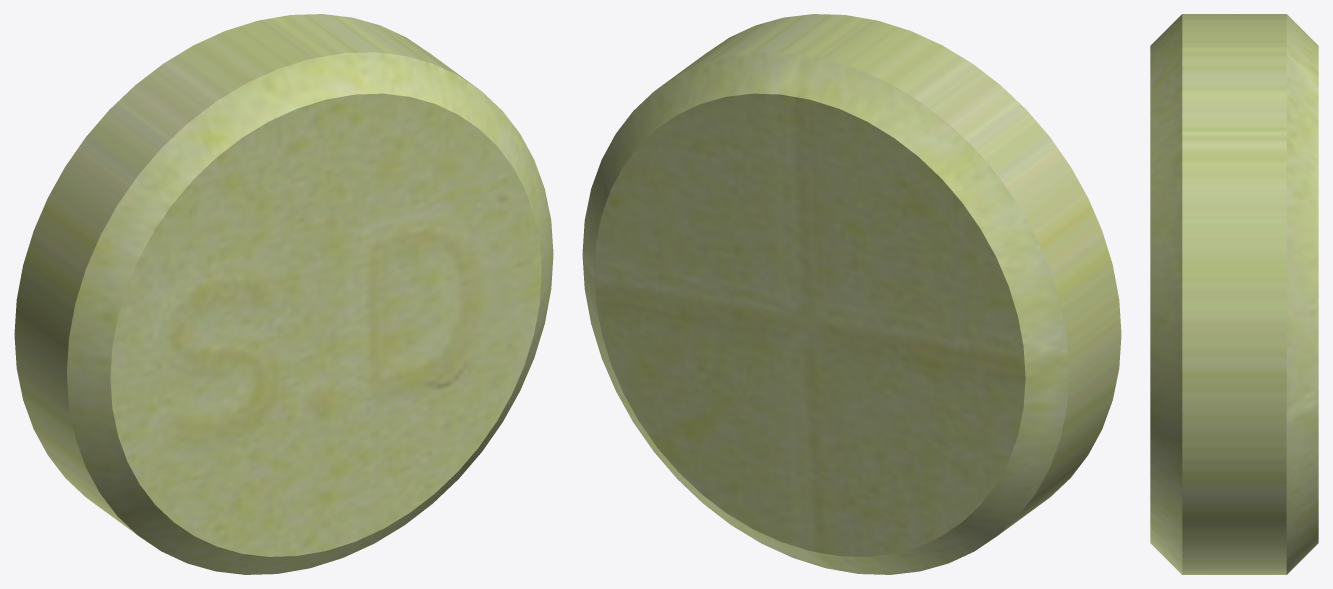
Rendered from 20140311GOPHDRGPT01637.fbx.
3 renders of one model, left to right at view 1: azimuth 30°, elevation 25°; view 2: azimuth 150°, elevation 25°; view 3: azimuth 270°, elevation 25°, orthographic.
Parts seen in each view (by area): view 1: BezierCircle; view 2: BezierCircle; view 3: BezierCircle.
Part boxes in pixels (x1,y1,x2,y2): BezierCircle: (14, 14, 553, 574); BezierCircle: (582, 14, 1121, 574); BezierCircle: (1150, 14, 1318, 574).
Bounding box in the file's own units: 0.7619 × 0.7619 × 0.2282.
